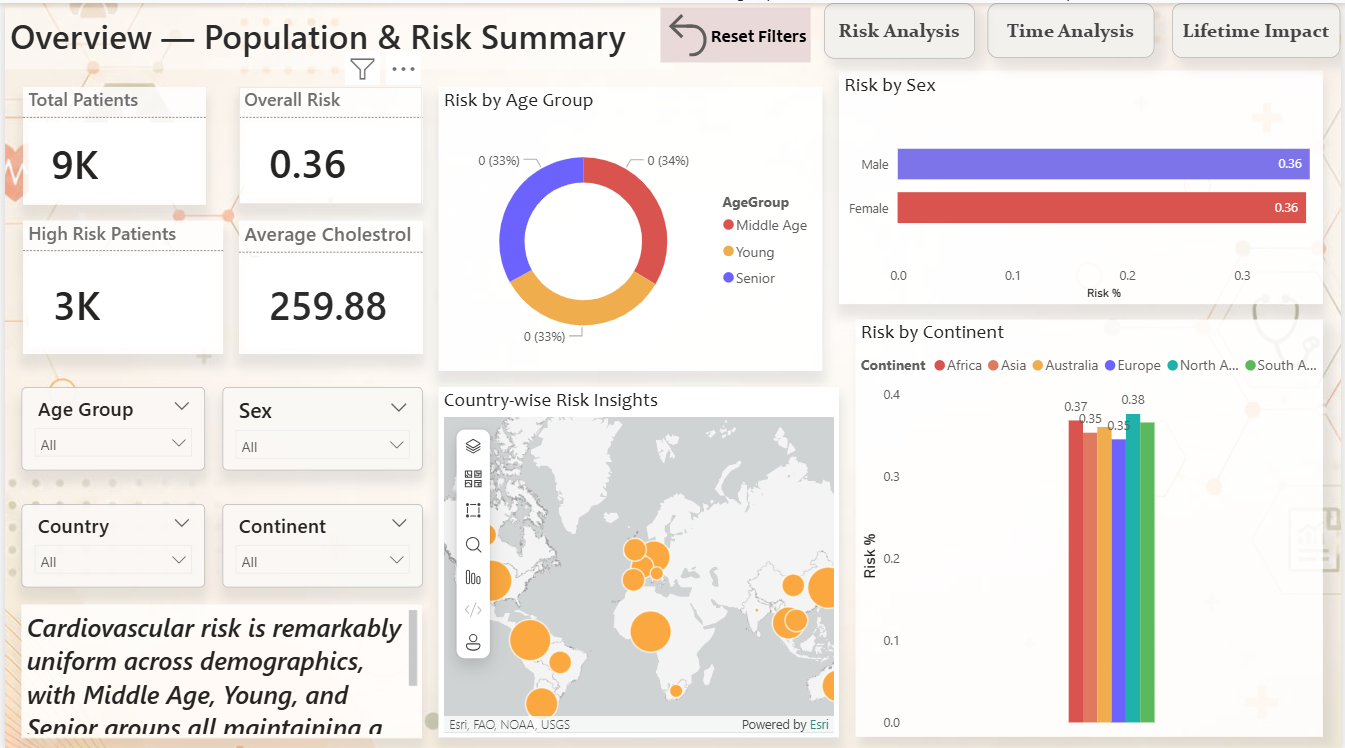

This screenshot's page, from the dashboard's own definition file:
{"tool":"powerbi","page":{"name":"Overview","canvas":[1280,720],"ordinal":0},"visuals":[{"type":"cardVisual","title":"Total Patients","fields":{"Data":["fact_heart_attack.Total Patients"]},"box":[16.8,80.8,175.2,112.8],"z":0},{"type":"cardVisual","title":"High Risk Patients","fields":{"Data":["fact_heart_attack.High Risk Patients"]},"box":[16.8,208.8,192,128],"z":1000},{"type":"clusteredBarChart","title":"Risk  by Sex","fields":{"Category":["dim_patient.Sex"],"Y":["fact_heart_attack.Risk %"]},"box":[800,64,464,224],"z":2000},{"type":"donutChart","title":"Risk by Age Group","fields":{"Y":["fact_heart_attack.Risk %"],"Category":["dim_patient.AgeGroup"]},"box":[416,80,368,272],"z":3000},{"type":"clusteredColumnChart","title":"Risk by Continent","fields":{"Series":["dim_location.Continent"],"Y":["fact_heart_attack.Risk %"]},"box":[816,304,448,400],"z":4000},{"type":"esriVisual","title":"Country-wise Risk Insights","fields":{"Location":["dim_location.Country"],"Size":["fact_heart_attack.Risk %"]},"box":[416,368,384,336],"z":5000},{"type":"textbox","box":[0,4.8,640,59.2],"z":6000},{"type":"slicer","fields":{"Values":["dim_patient.AgeGroup"]},"box":[16,368,176,80],"z":7000},{"type":"slicer","fields":{"Values":["dim_patient.Sex"]},"box":[208,368,192,80],"z":8000},{"type":"slicer","fields":{"Values":["dim_location.Country"]},"box":[16,480,176,80],"z":9000},{"type":"slicer","fields":{"Values":["dim_location.Continent"]},"box":[208,480,192,80],"z":10000},{"type":"cardVisual","title":"Overall Risk","fields":{"Data":["fact_heart_attack.Risk %"]},"box":[224,80,176,112],"z":11000},{"type":"cardVisual","title":"Average Cholestrol ","fields":{"Data":["fact_heart_attack.Avg Cholesterol"]},"box":[224,208,176,128],"z":12000},{"type":"textbox","box":[16,576,384,128],"z":13000},{"type":"actionButton","box":[942.4,0,160,52.8],"z":14000},{"type":"actionButton","box":[1118.4,0,161.6,52.8],"z":15000},{"type":"actionButton","box":[784.8,0,144.8,53.3],"z":16000},{"type":"actionButton","box":[628.8,4.8,144,52.8],"z":17000}]}

Visuals, with their boxes in screenshot pixels (x1, y1, x2, y2), scaled from the page's 1280x720 canvas onto the 1345x748 screenshot:
"Total Patients" cardVisual: (18,84,202,201)
"High Risk Patients" cardVisual: (18,217,219,350)
"Risk  by Sex" clusteredBarChart: (841,66,1328,299)
"Risk by Age Group" donutChart: (437,83,824,366)
"Risk by Continent" clusteredColumnChart: (857,316,1328,731)
"Country-wise Risk Insights" esriVisual: (437,382,841,731)
textbox: (0,5,672,66)
slicer - dim_patient.AgeGroup: (17,382,202,465)
slicer - dim_patient.Sex: (219,382,420,465)
slicer - dim_location.Country: (17,499,202,582)
slicer - dim_location.Continent: (219,499,420,582)
"Overall Risk" cardVisual: (235,83,420,199)
"Average Cholestrol " cardVisual: (235,216,420,349)
textbox: (17,598,420,731)
actionButton: (990,0,1158,55)
actionButton: (1175,0,1344,55)
actionButton: (825,0,977,55)
actionButton: (661,5,812,60)
